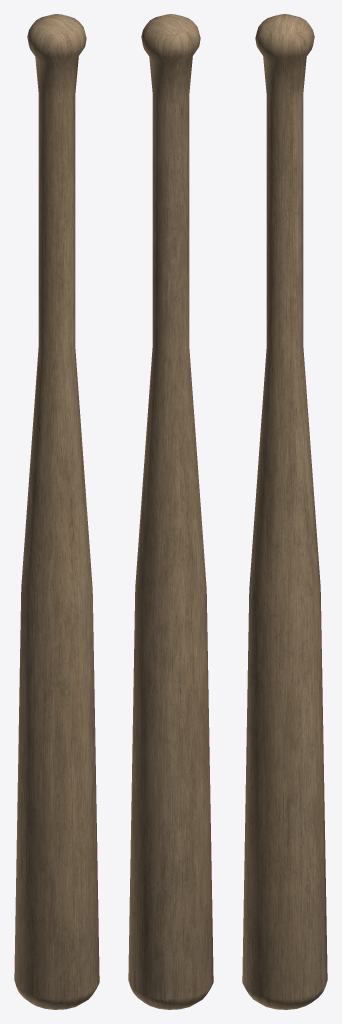
The model's file is MaderaBate.obj.
The picture shows the model from 3 angles, left to right: view 1: azimuth 30°, elevation 25°; view 2: azimuth 210°, elevation 25°; view 3: azimuth 330°, elevation 25°; orthographic projection.
Parts seen in each view (by area): view 1: Bate2; view 2: Bate2; view 3: Bate2.
Part boxes in pixels (x1=…): Bate2: x1=14, y1=14, x2=99, y2=1009; Bate2: x1=128, y1=14, x2=213, y2=1009; Bate2: x1=242, y1=14, x2=327, y2=1009.
Size of the model in its own units: 4.58 by 59.42 by 4.58.
Materials: 1 (1 with a texture image).
